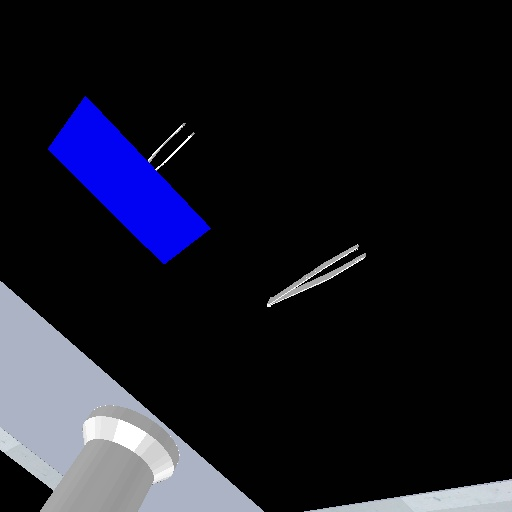pinza: (260, 239, 370, 312), (146, 119, 196, 172)
